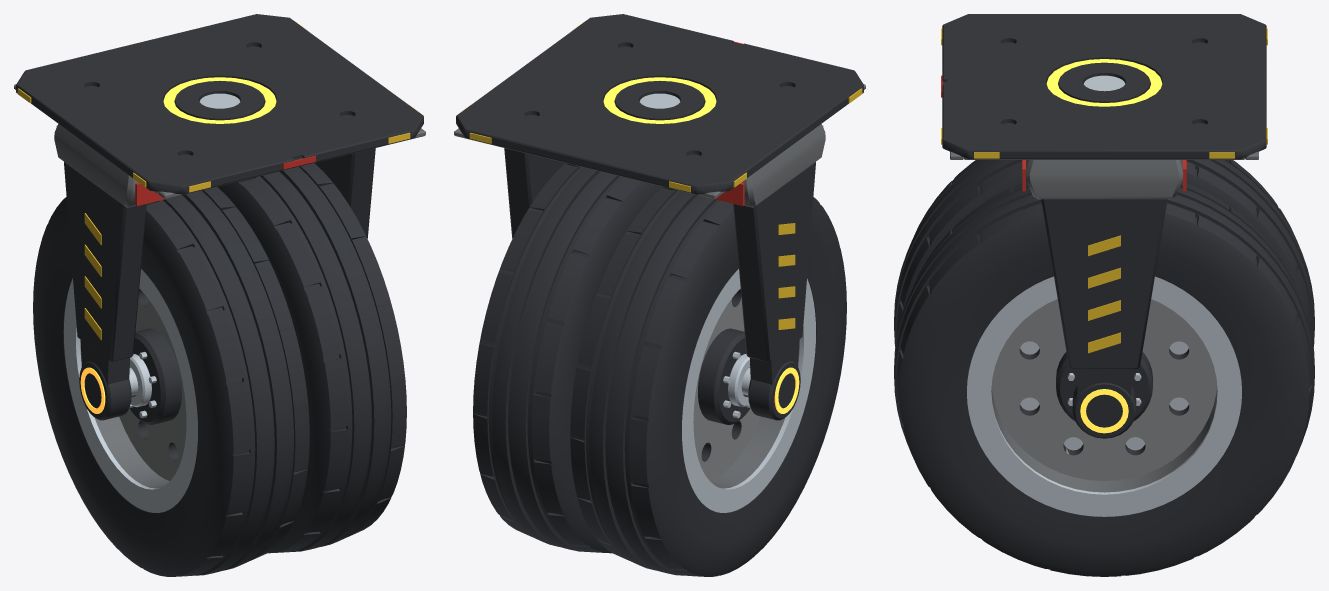
Rendered from R4M_WheelM_Twin_Road.glb.
3 renders of one model, left to right at view 1: azimuth 30°, elevation 25°; view 2: azimuth 150°, elevation 25°; view 3: azimuth 270°, elevation 25°, orthographic. The views are drawn at different scales.
Visible parts, largest first — view 1: R4M_WheelM_Twin_Road_Rotor, R4M_WheelM_Twin_Road_Mount; view 2: R4M_WheelM_Twin_Road_Rotor, R4M_WheelM_Twin_Road_Mount; view 3: R4M_WheelM_Twin_Road_Rotor, R4M_WheelM_Twin_Road_Mount.
Boxes of the visible parts, x1,y1,x2,y2 form: R4M_WheelM_Twin_Road_Rotor: [33, 163, 406, 576]; R4M_WheelM_Twin_Road_Mount: [14, 14, 425, 420]; R4M_WheelM_Twin_Road_Rotor: [473, 163, 846, 576]; R4M_WheelM_Twin_Road_Mount: [454, 14, 865, 420]; R4M_WheelM_Twin_Road_Rotor: [894, 160, 1314, 576]; R4M_WheelM_Twin_Road_Mount: [941, 14, 1267, 438].
Size of the model in its own units: 0.5126 by 0.79 by 0.66.
